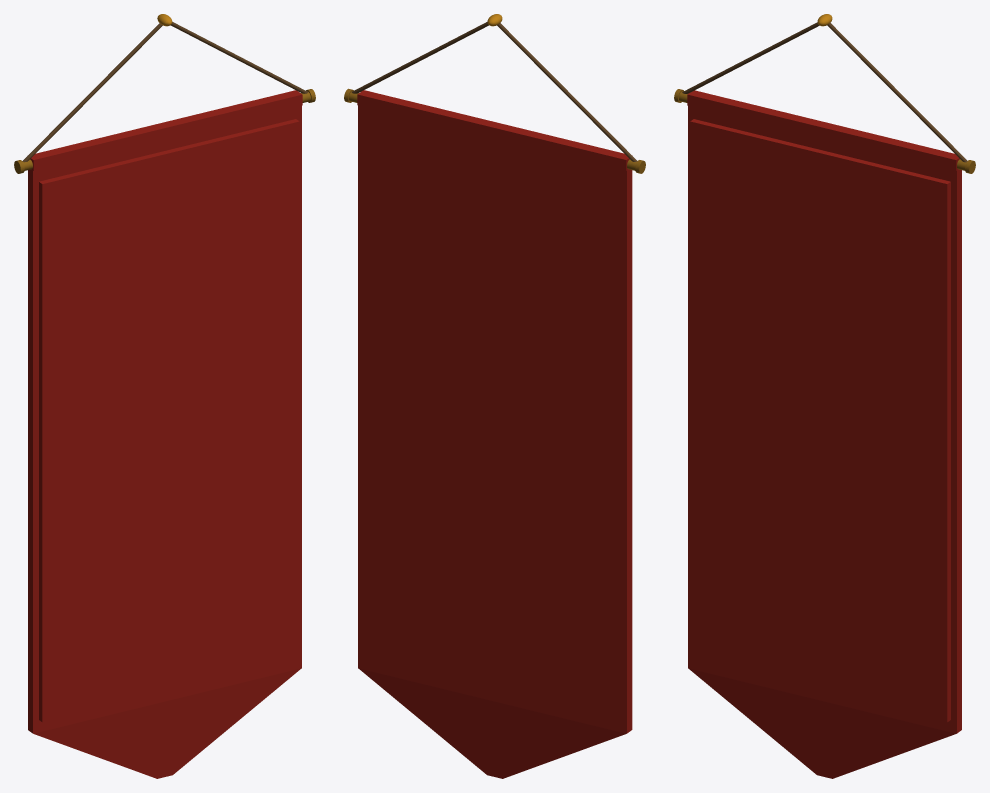
File: M_DecoMuraleRouge.fbx
3 views of the same model, side by side, from view 1: azimuth 30°, elevation 25°; view 2: azimuth 150°, elevation 25°; view 3: azimuth 330°, elevation 25° (orthographic).
Parts seen in each view (by area): view 1: Cylinder.001; view 2: Cylinder.001; view 3: Cylinder.001.
Part boxes in pixels (<box>): Cylinder.001: <box>14,14,315,778</box>; Cylinder.001: <box>344,14,645,778</box>; Cylinder.001: <box>674,14,975,778</box>.
Bounding box in the file's own units: 329 × 811 × 21.75.
